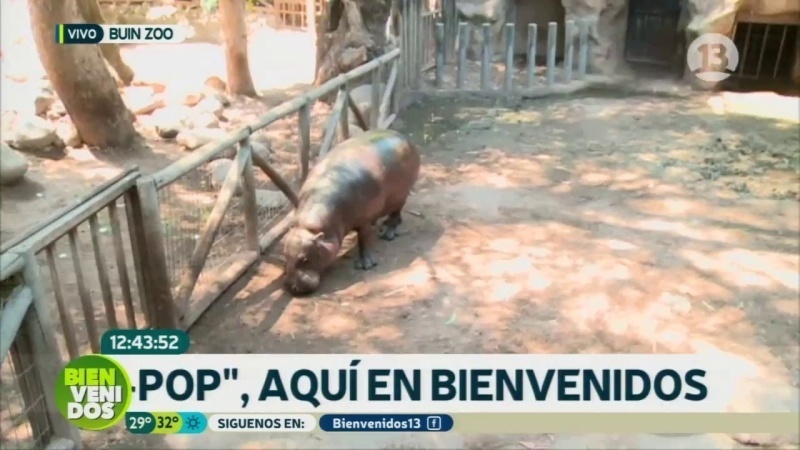hipopotamo: (272, 117, 445, 300)
